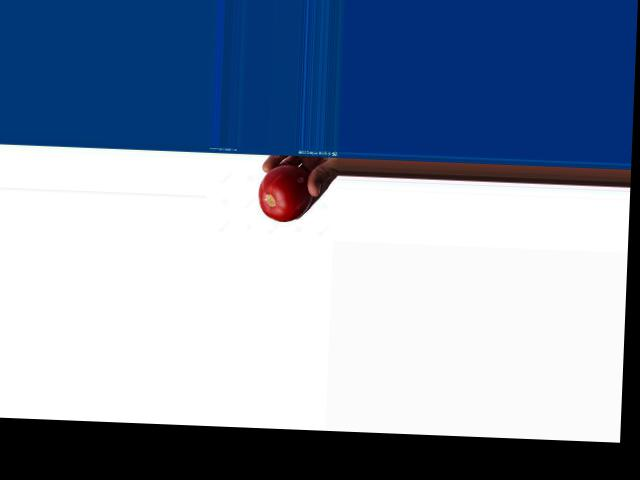tomato: (257, 163, 313, 222)
